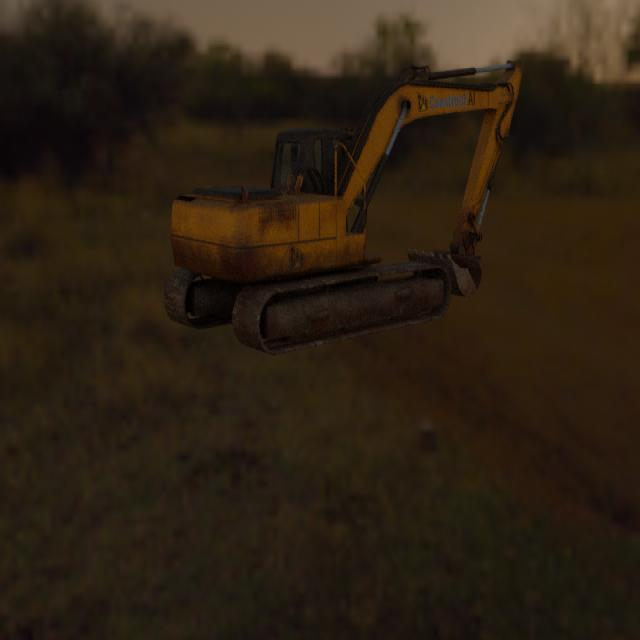excavator: (163, 58, 522, 354)
